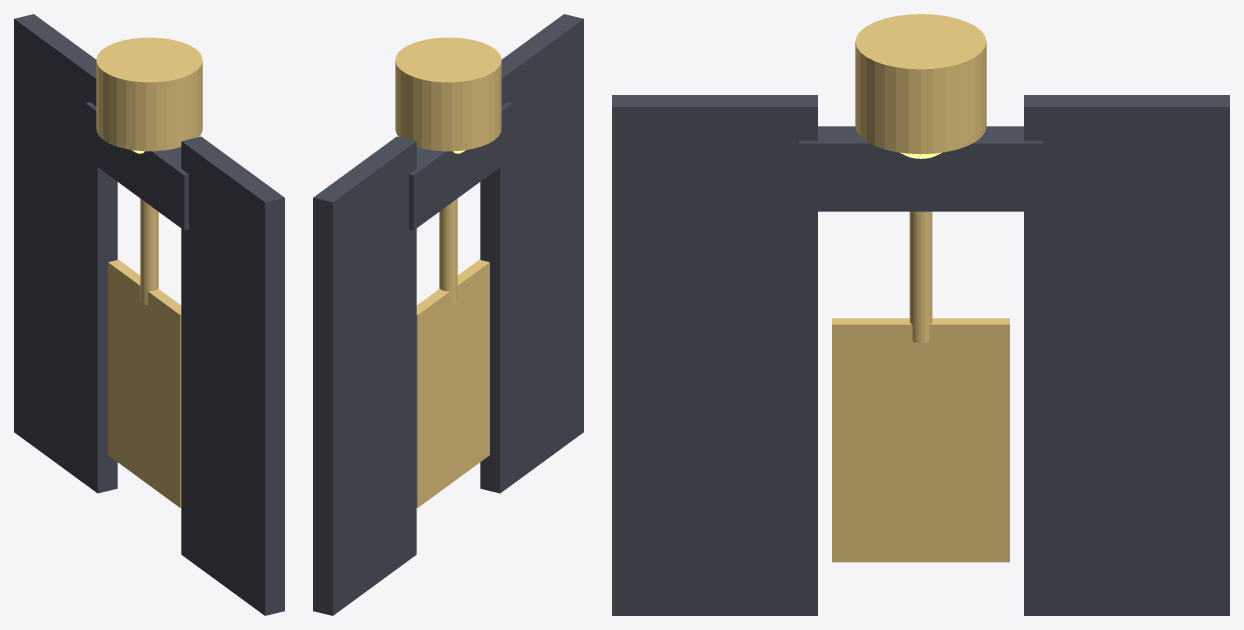
The model's file is maxwell_trapdoor.glb.
3 views of the same model, side by side, from view 1: azimuth 30°, elevation 25°; view 2: azimuth 150°, elevation 25°; view 3: azimuth 270°, elevation 25° (orthographic). The views are drawn at different scales.
Visible parts, largest first — view 1: LeftPartition, RightPartition, TrapdoorShutter, DemonSensorMount, ApertureLintel, ActuatorRod; view 2: RightPartition, LeftPartition, TrapdoorShutter, DemonSensorMount, ApertureLintel, ActuatorRod; view 3: LeftPartition, RightPartition, TrapdoorShutter, ApertureLintel, DemonSensorMount, ActuatorRod.
Part boxes in pixels (x1,y1,x2,y2): LeftPartition: [181, 136, 284, 615]; RightPartition: [14, 14, 117, 493]; TrapdoorShutter: [108, 259, 181, 507]; DemonSensorMount: [96, 37, 202, 151]; ApertureLintel: [85, 102, 188, 230]; ActuatorRod: [140, 198, 158, 304]; RightPartition: [313, 136, 416, 615]; LeftPartition: [480, 14, 583, 493]; TrapdoorShutter: [416, 259, 489, 507]; DemonSensorMount: [395, 37, 501, 151]; ApertureLintel: [409, 102, 512, 230]; ActuatorRod: [439, 198, 457, 304]; LeftPartition: [612, 95, 817, 615]; RightPartition: [1024, 95, 1229, 615]; TrapdoorShutter: [832, 318, 1009, 562]; ApertureLintel: [799, 126, 1042, 211]; DemonSensorMount: [855, 14, 986, 154]; ActuatorRod: [909, 211, 932, 343].
Bounding box in the file's own units: 0.7 × 3.35 × 3.3.
